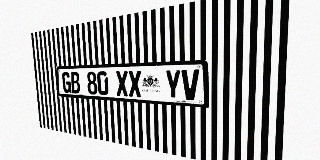0: (97, 71, 109, 95)
8: (86, 71, 98, 95)
B: (70, 72, 80, 94)
G: (62, 72, 71, 93)
V: (181, 69, 199, 101)
X: (128, 70, 142, 97), (115, 71, 129, 97)
Y: (165, 70, 181, 100)
